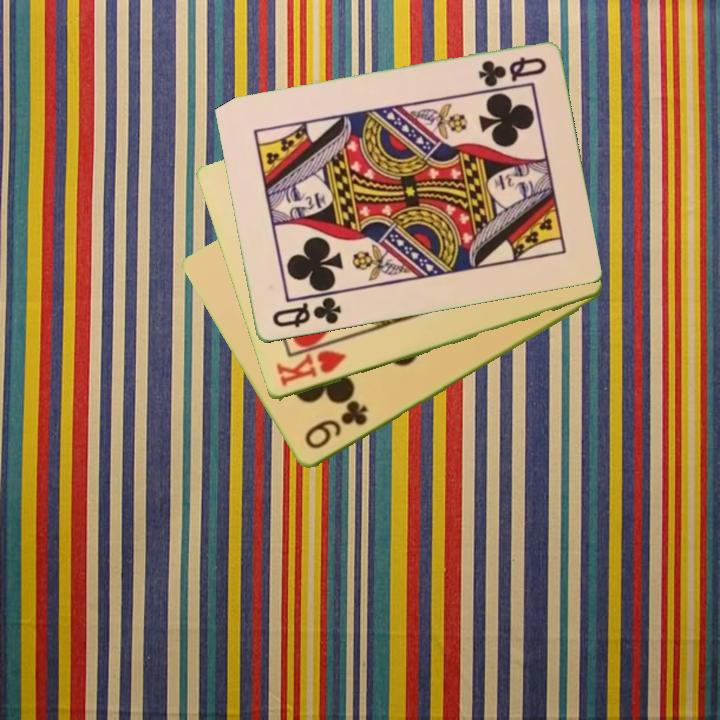9c: (300, 399, 371, 453)
Kh: (272, 347, 349, 390)
Qc: (268, 294, 344, 331), (474, 53, 549, 90)
